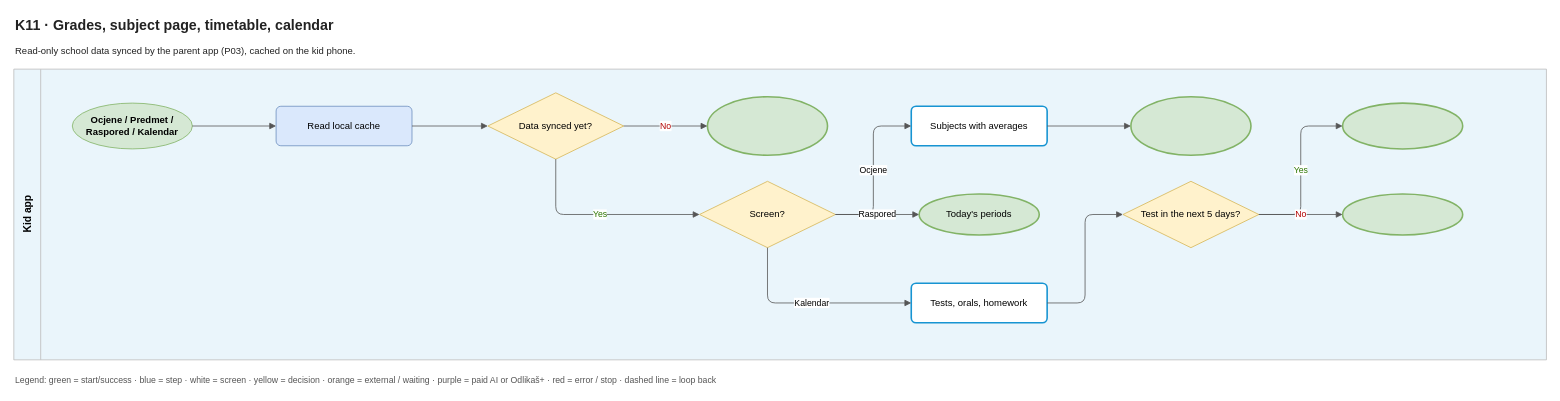
The diagram is 1560 pixels wide and 401 high, and some of its shapes have lost their labels. The shapes that lost their labels are listed below. From the top down, each one's centre as x and y in pixels, then its label:
At pixel 767 126: "No e-Dnevnik: manual grades (P14) or empty state".
At pixel 1190 126: "Predmet: grades, Kartica CILJ (K15), vježbaj, slikaj zadatak".
At pixel 1402 125: "Suggest a practice quiz → K04".
At pixel 1402 214: "Calendar shown".
